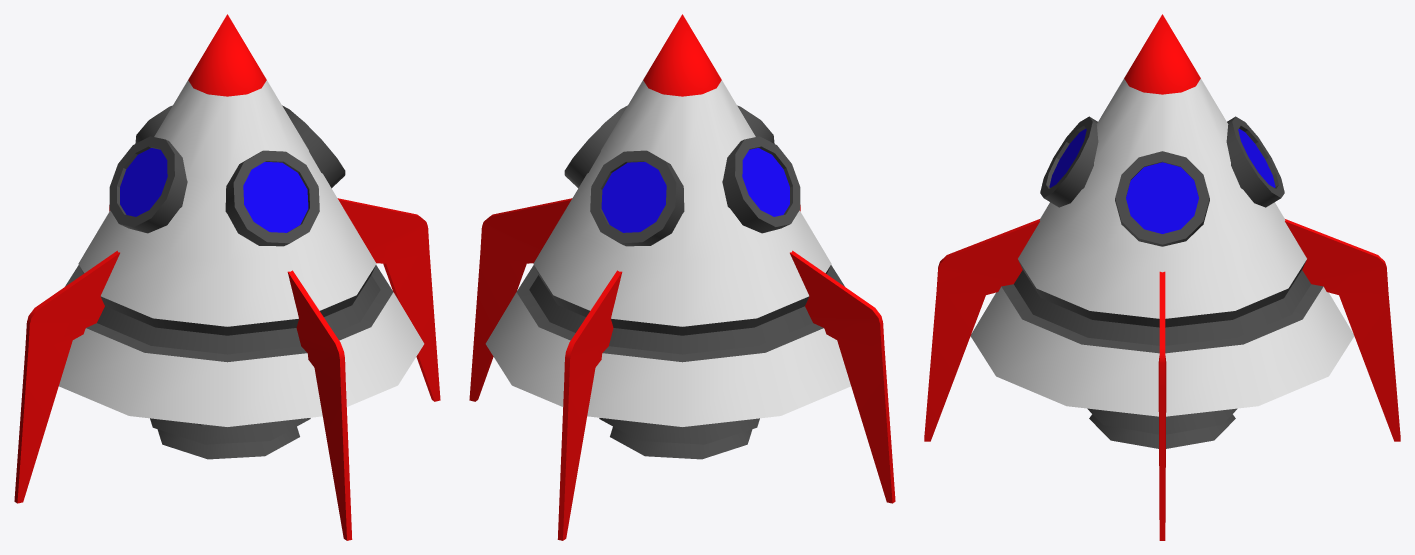
File: Piercer.fbx
The picture shows the model from 3 angles, left to right: view 1: azimuth 30°, elevation 25°; view 2: azimuth 150°, elevation 25°; view 3: azimuth 270°, elevation 25°; orthographic projection. The views are drawn at different scales.
Parts seen in each view (by area): view 1: Piercer; view 2: Piercer; view 3: Piercer.
Boxes of the visible parts, left/top/right/bottom form: Piercer: left=14, top=14, right=440, bottom=540; Piercer: left=469, top=14, right=895, bottom=540; Piercer: left=924, top=14, right=1400, bottom=540.
Size of the model in its own units: 101 by 100 by 101.
